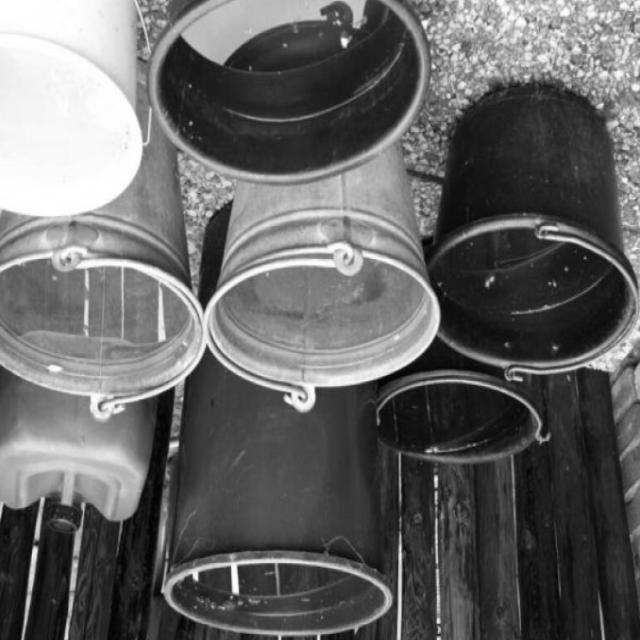Breeding Place: (156, 94, 466, 442), (129, 1, 469, 224), (426, 50, 640, 387), (149, 368, 405, 640), (0, 117, 214, 407), (362, 321, 570, 529), (0, 0, 179, 221)
